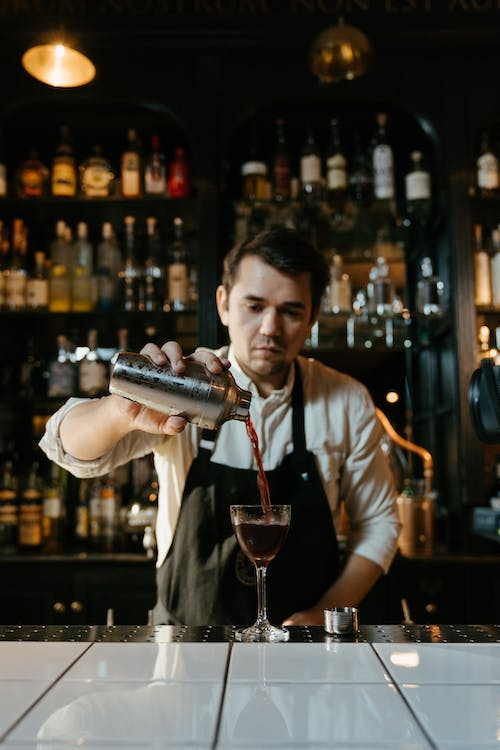alcohol: (104, 348, 255, 432), (225, 500, 294, 645), (167, 215, 197, 312), (370, 112, 399, 202), (142, 215, 166, 312), (119, 215, 142, 312), (97, 220, 121, 312), (75, 329, 107, 398), (296, 127, 325, 201), (42, 332, 74, 399), (4, 219, 27, 312), (268, 114, 292, 201), (51, 123, 78, 199), (72, 220, 94, 312), (22, 459, 44, 551), (78, 142, 116, 195), (325, 114, 348, 201), (99, 470, 123, 552), (50, 220, 71, 312), (117, 127, 144, 196), (0, 459, 20, 551), (44, 459, 64, 551), (16, 147, 50, 199), (474, 132, 500, 199), (416, 256, 445, 316), (403, 150, 434, 203), (349, 133, 371, 202), (145, 133, 169, 196), (328, 256, 353, 315), (371, 256, 395, 316), (27, 252, 50, 312), (474, 224, 490, 308), (169, 143, 190, 196), (241, 159, 267, 201), (72, 478, 85, 550), (489, 226, 500, 310), (86, 475, 98, 551)
